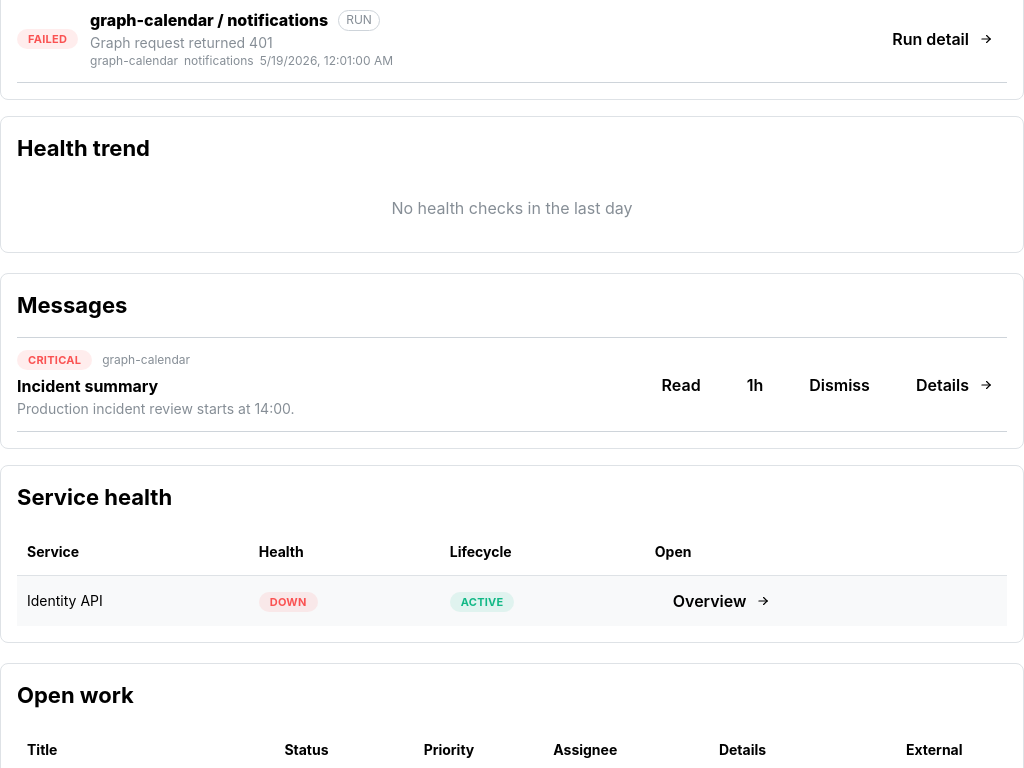
Scenario: DashboardView daily workbench › keeps a message actionable when a quick action fails
The image size is (1024, 768).
(page scrolled)
Click the button with aria-label "Dismiss Incident summary": x=840, y=385 [791,372,888,398]
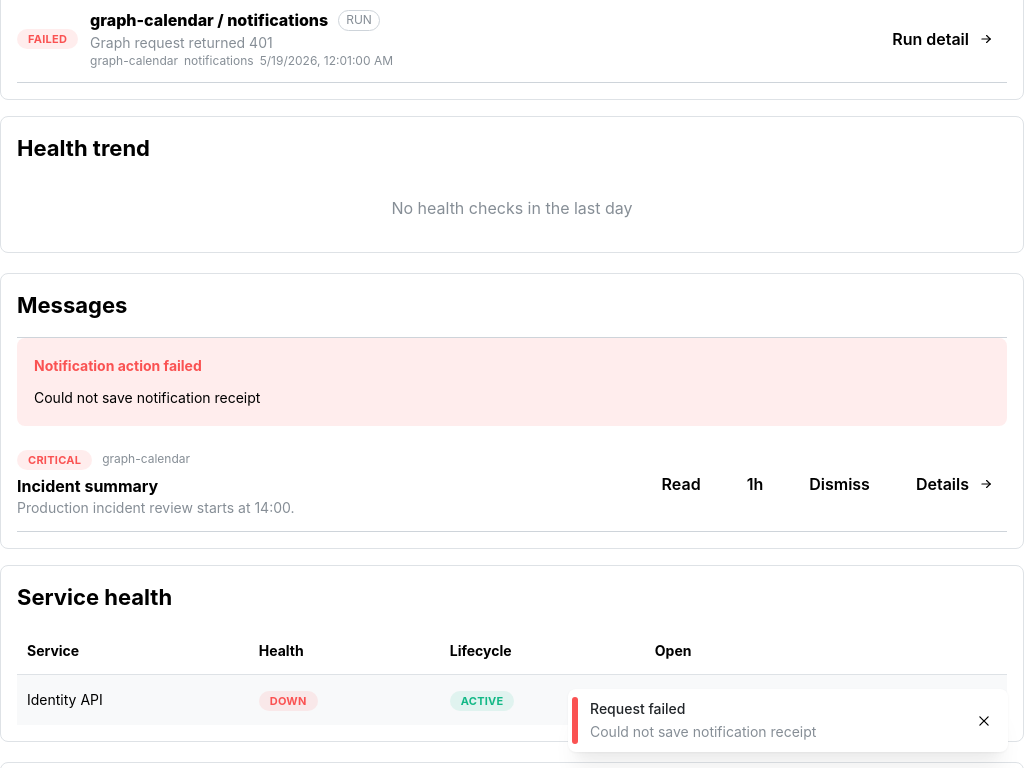
Expected: the button with aria-label "Mark Incident summary read" is shown, [644,471,719,497]
Result: the text "Could not save notification receipt" below "Notification action failed" is shown at [34,389,260,406]
